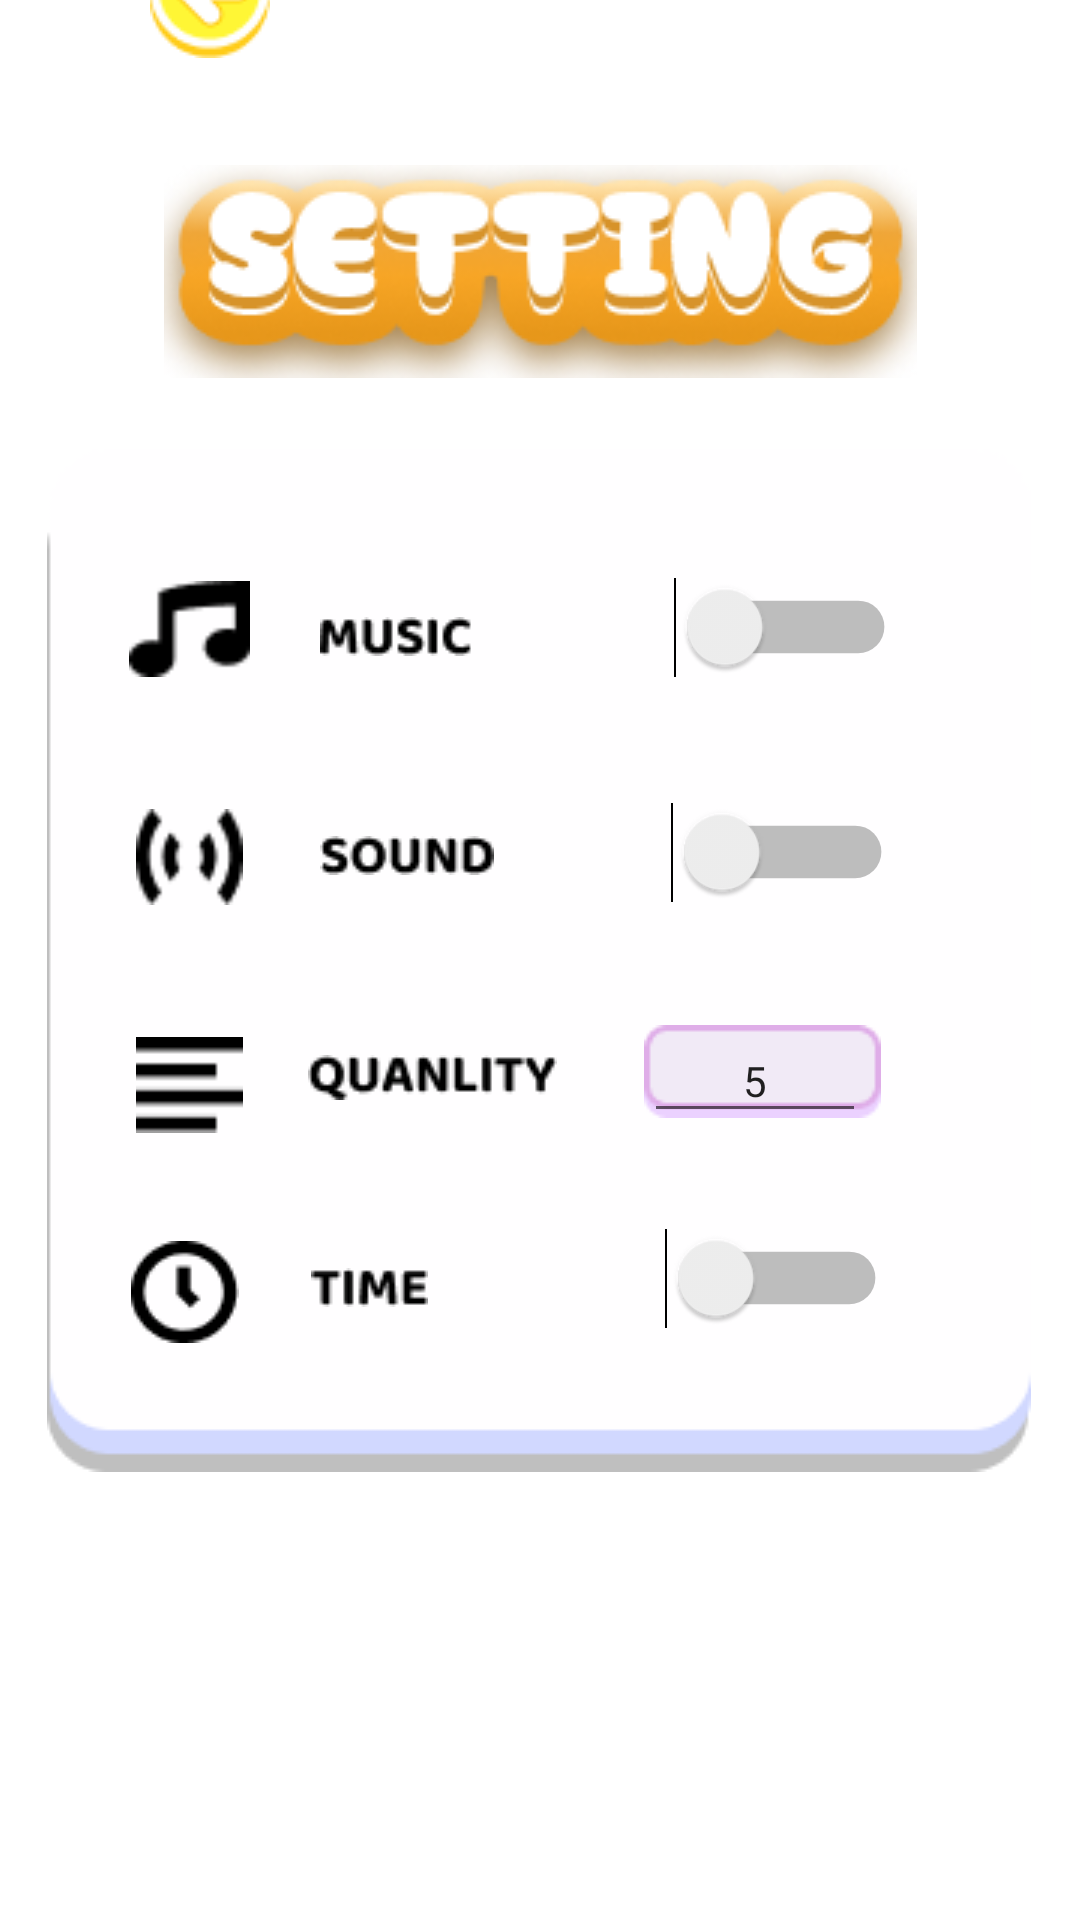

Icons on this 1080×1920 Android screen, each with the point to tap as (x=x, y=y):
align left: (x=189, y=1085)
audio: (x=189, y=857)
clock: (x=185, y=1292)
musical note: (x=189, y=629)
